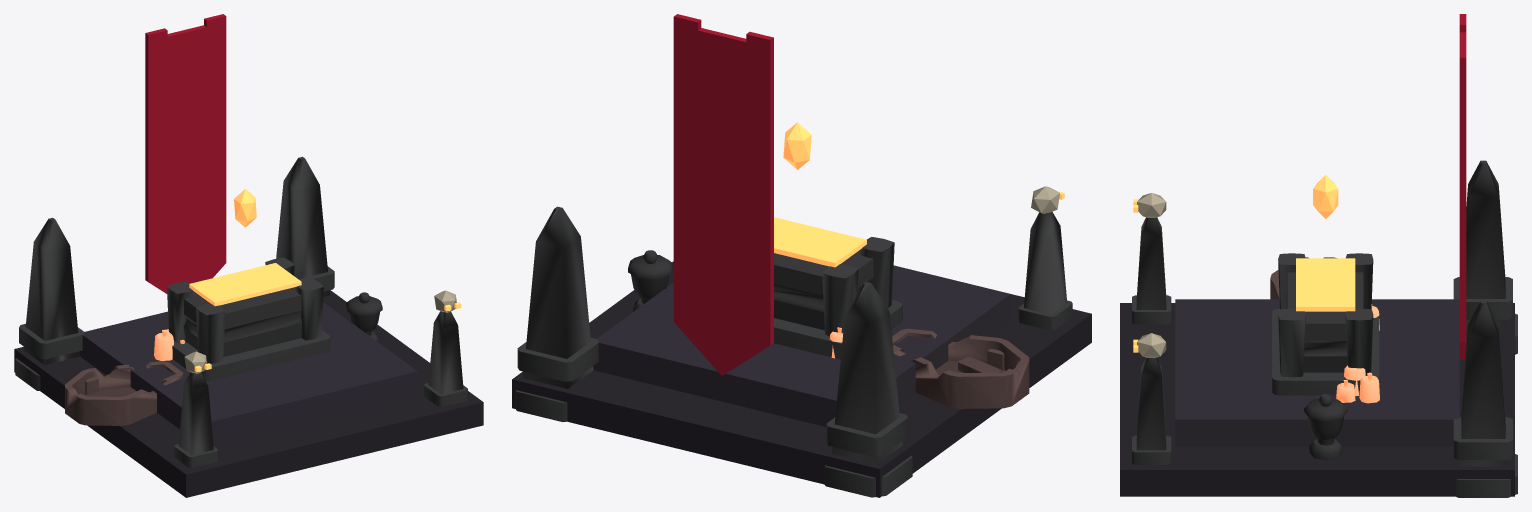
The model's file is altar_l2.glb.
The picture shows the model from 3 angles, left to right: view 1: azimuth 30°, elevation 25°; view 2: azimuth 150°, elevation 25°; view 3: azimuth 270°, elevation 25°; orthographic projection. The views are drawn at different scales.
Parts seen in each view (by area): view 1: altar_l2; view 2: altar_l2; view 3: altar_l2.
Boxes of the visible parts, left/top/right/bottom form: altar_l2: left=14, top=14, right=483, bottom=497; altar_l2: left=512, top=14, right=1091, bottom=497; altar_l2: left=1120, top=14, right=1517, bottom=497.
Bounding box in the file's own units: 5.03 × 4.81 × 4.59.
